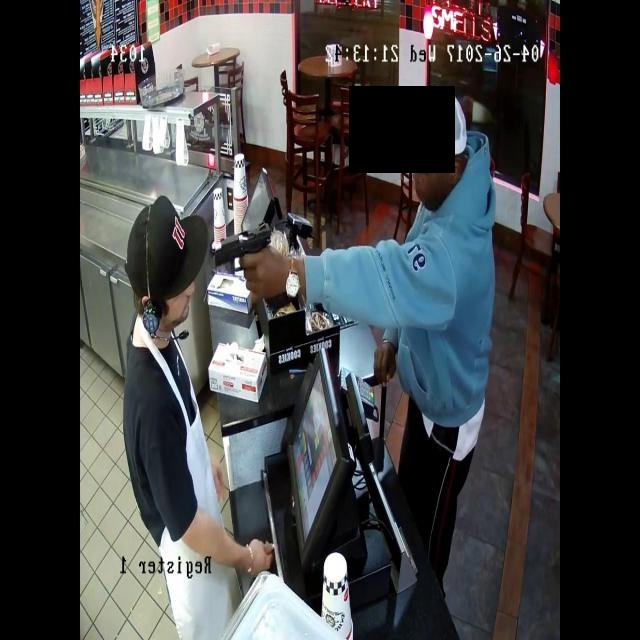gun: (201, 207, 284, 288)
